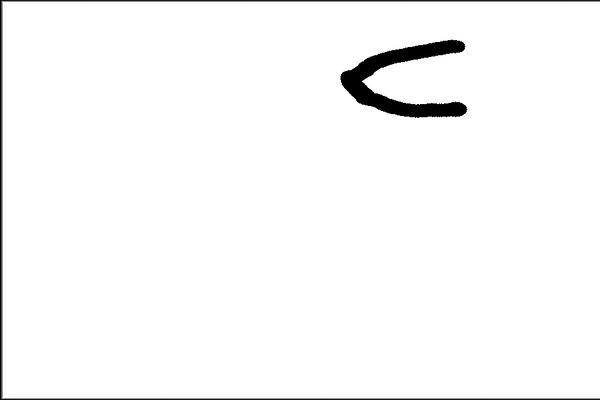C: (334, 30, 473, 125)
